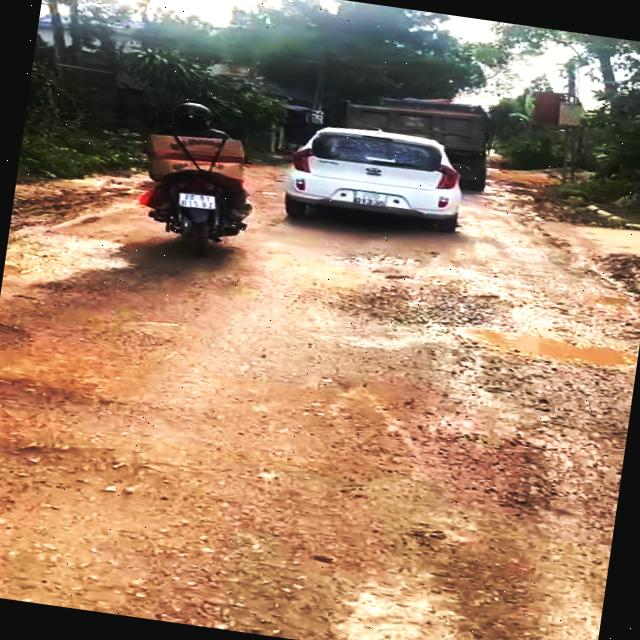pothole: (361, 275, 640, 380), (0, 422, 172, 516), (0, 369, 134, 440), (0, 317, 51, 357)
